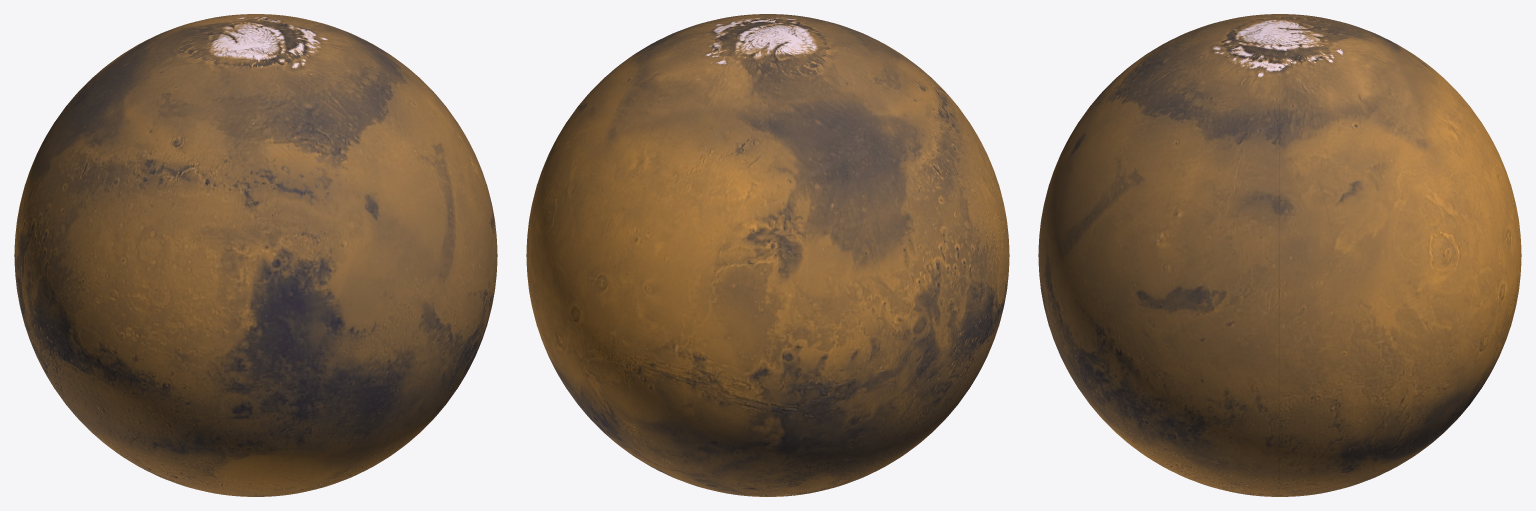
The model's file is nasa-mars-length.glb.
The picture shows the model from 3 angles, left to right: view 1: azimuth 30°, elevation 25°; view 2: azimuth 150°, elevation 25°; view 3: azimuth 270°, elevation 25°; orthographic projection.
Visible parts, largest first — view 1: Mars; view 2: Mars; view 3: Mars.
Boxes of the visible parts, x1,y1,x2,y2 form: Mars: [14, 14, 497, 496]; Mars: [526, 14, 1009, 496]; Mars: [1038, 14, 1521, 496].
Bounding box in the file's own units: 2 × 2 × 2.
1 material, 1 textured.
